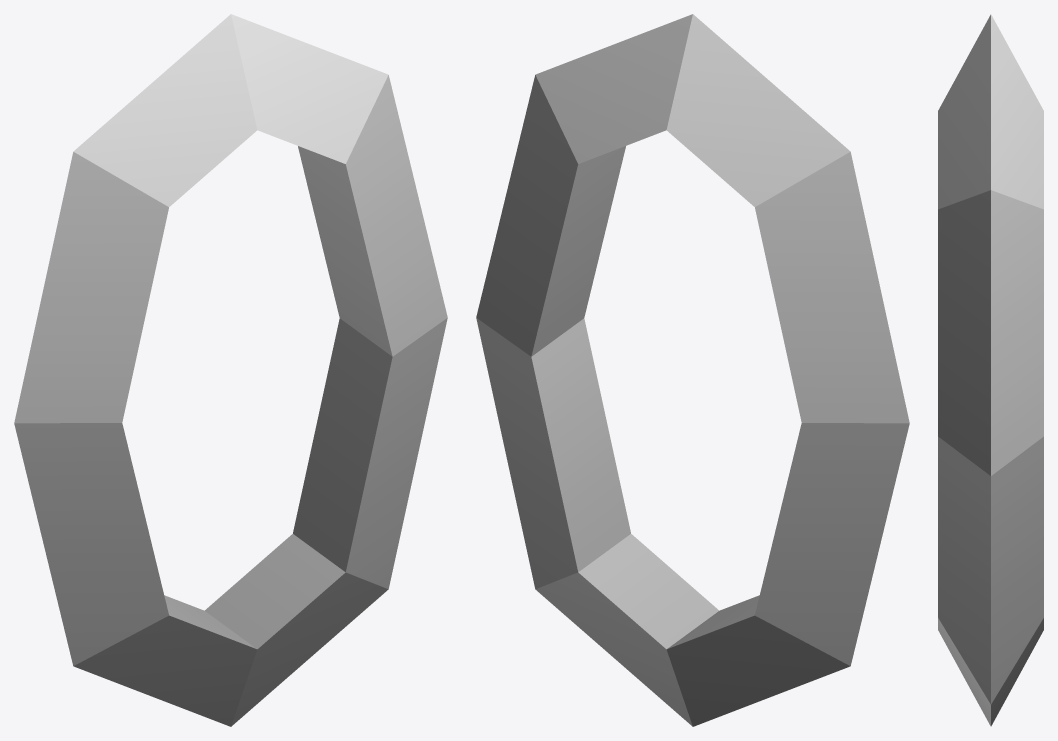
File: Anchor_Chain_OnePart_A.fbx
3 renders of one model, left to right at view 1: azimuth 30°, elevation 25°; view 2: azimuth 150°, elevation 25°; view 3: azimuth 270°, elevation 25°, orthographic.
Visible parts, largest first — view 1: Anchor_Chain_OnePart_A; view 2: Anchor_Chain_OnePart_A; view 3: Anchor_Chain_OnePart_A.
Boxes of the visible parts, <box> form: Anchor_Chain_OnePart_A: <box>14,14,447,726</box>; Anchor_Chain_OnePart_A: <box>476,14,909,726</box>; Anchor_Chain_OnePart_A: <box>938,14,1043,726</box>.
Size of the model in its own units: 52.47 by 82.44 by 11.09.
